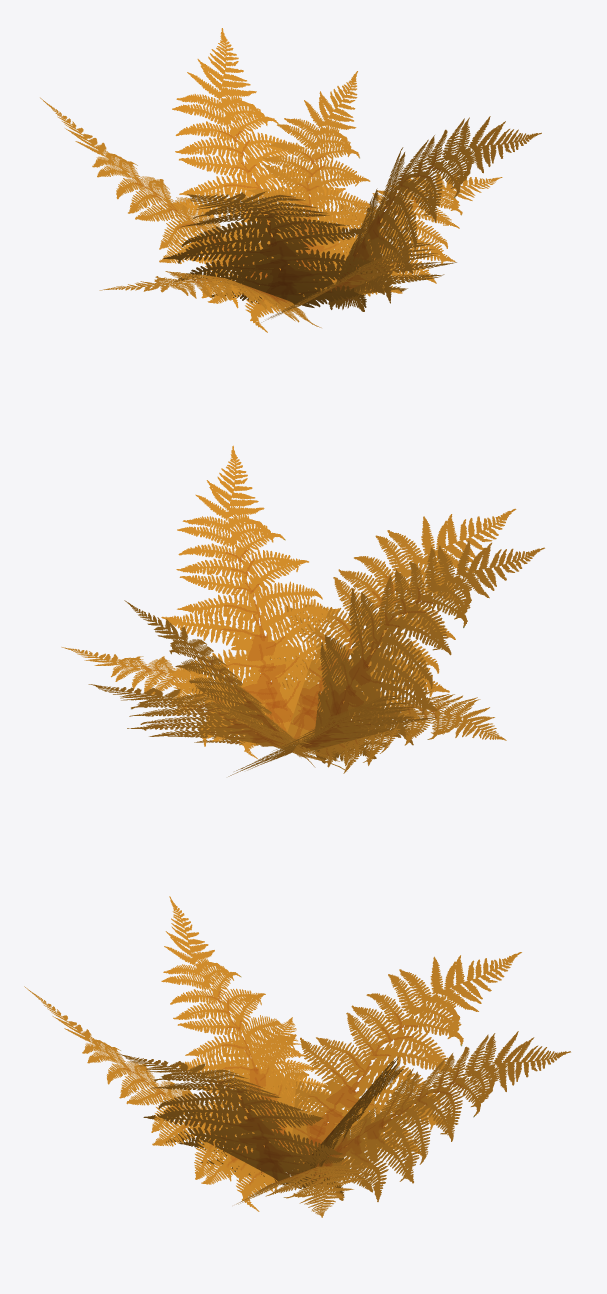
Rendered from fougere.fbx.
The picture shows the model from 3 angles, top to bottom: view 1: azimuth 30°, elevation 25°; view 2: azimuth 150°, elevation 25°; view 3: azimuth 270°, elevation 25°; orthographic projection. The views are drawn at different scales.
Parts seen in each view (by area): view 1: pPlane1; view 2: pPlane1; view 3: pPlane1.
Part boxes in pixels (<box>): pPlane1: <box>40,28,541,332</box>; pPlane1: <box>61,445,544,776</box>; pPlane1: <box>24,896,570,1217</box>.
Bounding box in the file's own units: 65.84 × 28.04 × 64.05.
